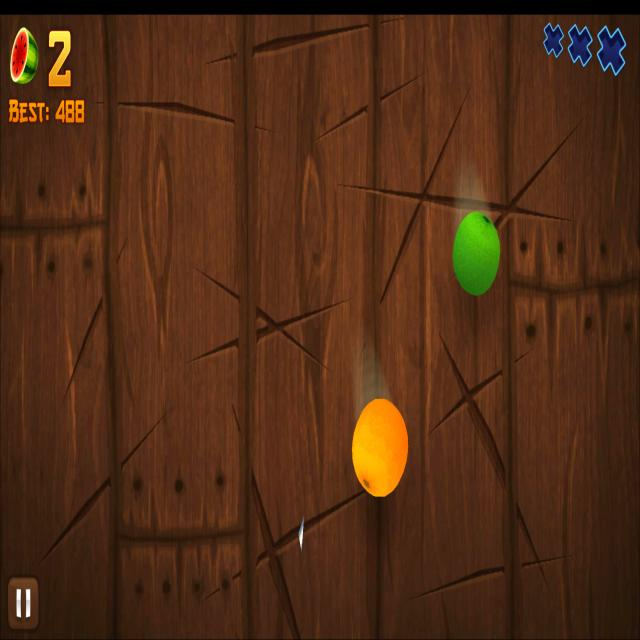fruit: (352, 396, 408, 500), (452, 209, 501, 298)
